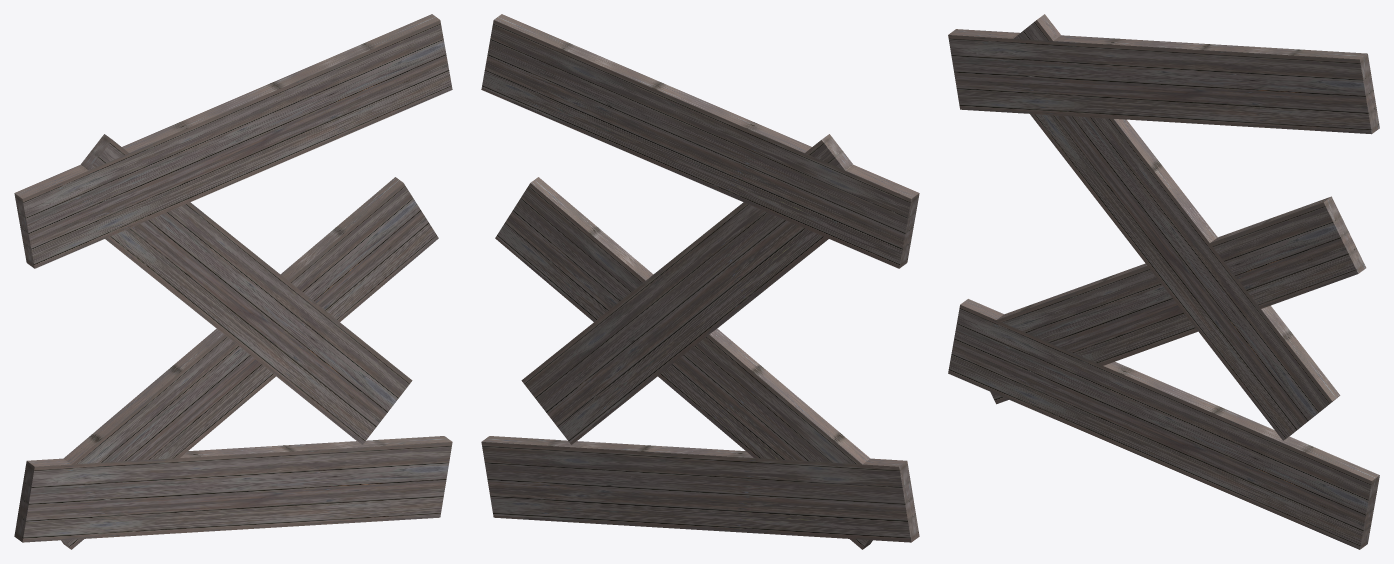
The model's file is Blockade.glb.
3 renders of one model, left to right at view 1: azimuth 30°, elevation 25°; view 2: azimuth 150°, elevation 25°; view 3: azimuth 330°, elevation 25°, orthographic.
Visible parts, largest first — view 1: Cube.003, Cube, Cube.001, Cube.002; view 2: Cube.003, Cube, Cube.001, Cube.002; view 3: Cube, Cube.003, Cube.001, Cube.002.
Part boxes in pixels (bbox=[...]): Cube.003: bbox=[14, 14, 452, 268]; Cube: bbox=[14, 436, 452, 542]; Cube.001: bbox=[80, 134, 412, 444]; Cube.002: bbox=[61, 177, 438, 549]; Cube.003: bbox=[481, 14, 919, 268]; Cube: bbox=[481, 436, 919, 542]; Cube.001: bbox=[521, 134, 853, 444]; Cube.002: bbox=[495, 177, 872, 549]; Cube: bbox=[948, 299, 1379, 549]; Cube.003: bbox=[948, 29, 1379, 134]; Cube.001: bbox=[1013, 14, 1340, 440]; Cube.002: bbox=[990, 196, 1366, 404].
Bounding box in the file's own units: 3.04 × 3.36 × 0.1.
1 material, 1 textured.
